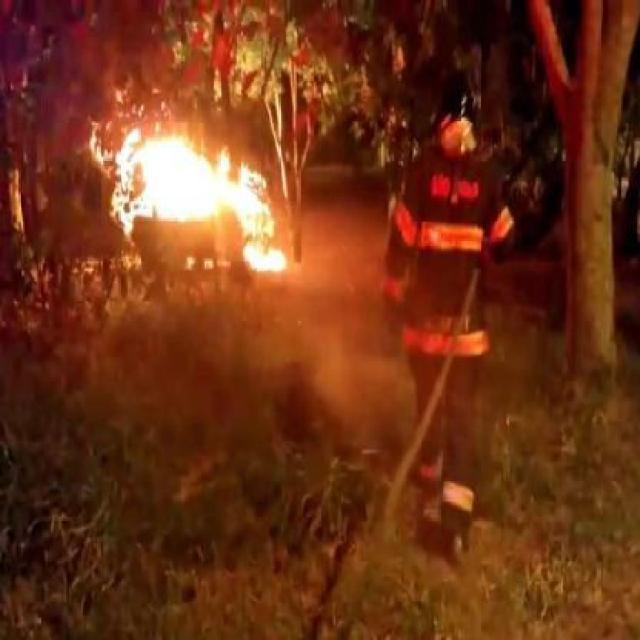Fire: (86, 126, 286, 272)
